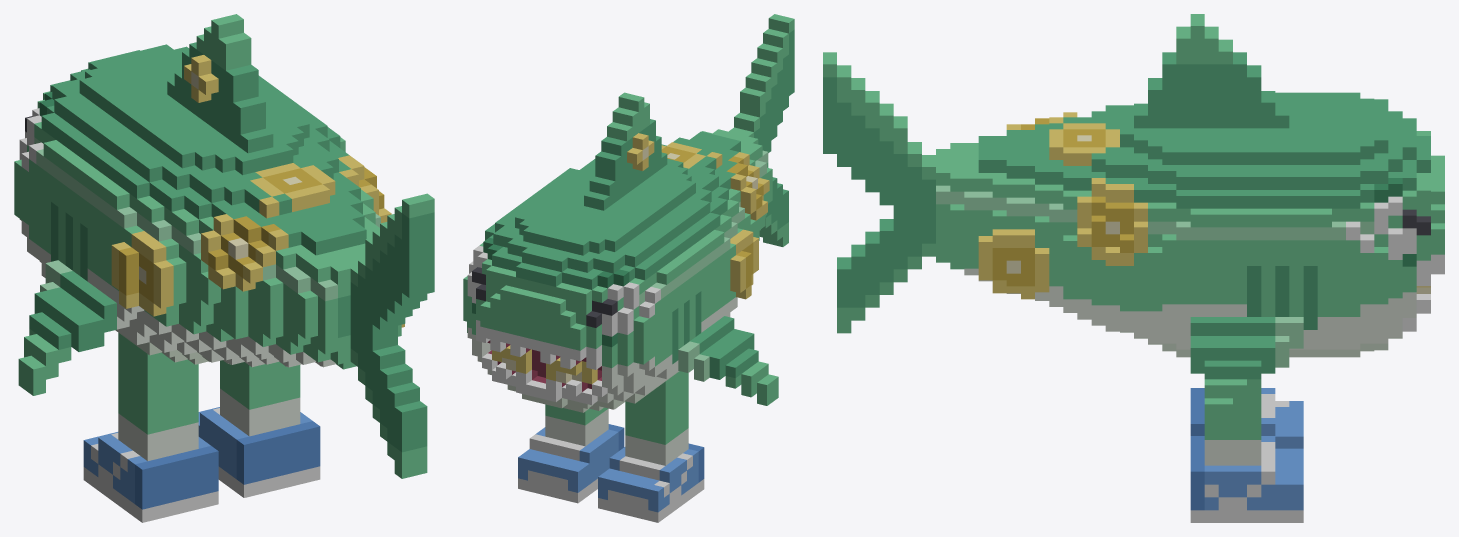
File: SqualoRobuxiano.glb
3 views of the same model, side by side, from view 1: azimuth 30°, elevation 25°; view 2: azimuth 150°, elevation 25°; view 3: azimuth 270°, elevation 25° (orthographic). The views are drawn at different scales.
Visible parts, largest first — view 1: geometry_0; view 2: geometry_0; view 3: geometry_0.
Boxes of the visible parts, x1,y1,x2,y2 form: geometry_0: [14, 14, 434, 522]; geometry_0: [463, 14, 794, 522]; geometry_0: [823, 14, 1444, 522].
Bounding box in the file's own units: 0.8333 × 1 × 1.22.
